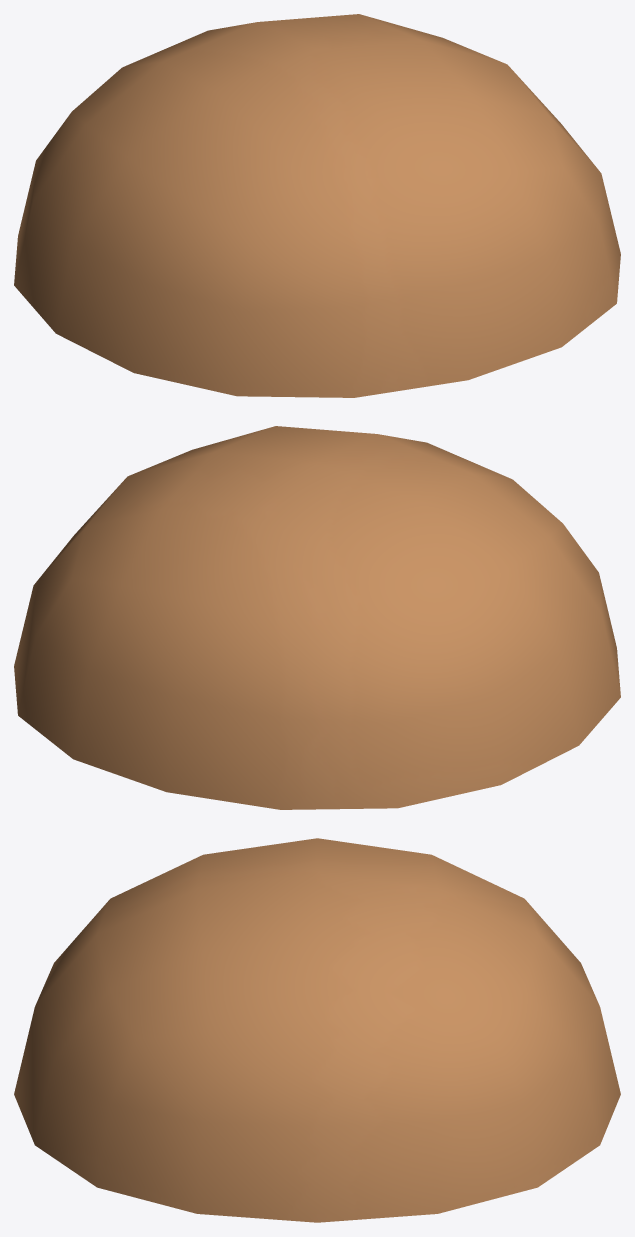
Rendered from rockBall.fbx.
3 renders of one model, top to bottom at view 1: azimuth 30°, elevation 25°; view 2: azimuth 150°, elevation 25°; view 3: azimuth 270°, elevation 25°, orthographic.
Visible parts, largest first — view 1: Cube; view 2: Cube; view 3: Cube.
Part boxes in pixels (x1,y1,x2,y2): Cube: (14, 14, 620, 397); Cube: (14, 426, 620, 809); Cube: (14, 838, 620, 1222).
Bounding box in the file's own units: 168 × 67.16 × 168.
